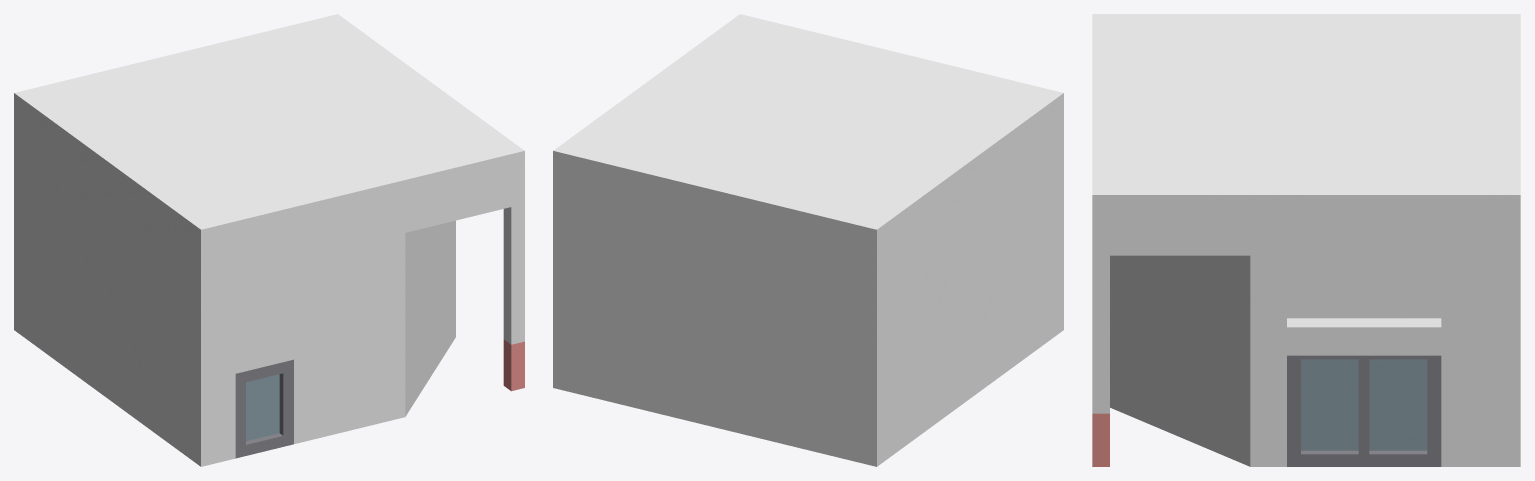
File: pitsGarageCorner.glb
3 views of the same model, side by side, from view 1: azimuth 30°, elevation 25°; view 2: azimuth 150°, elevation 25°; view 3: azimuth 270°, elevation 25° (orthographic). The views are drawn at different scales.
Visible parts, largest first — view 1: pitsGarageCorner(Clone); view 2: pitsGarageCorner(Clone); view 3: pitsGarageCorner(Clone).
Part boxes in pixels (x1,y1,x2,y2): pitsGarageCorner(Clone): (14,14,524,466); pitsGarageCorner(Clone): (553,14,1063,466); pitsGarageCorner(Clone): (1092,14,1520,466).
Bounding box in the file's own units: 1.05 × 0.7 × 1.
1 material, 1 textured.
